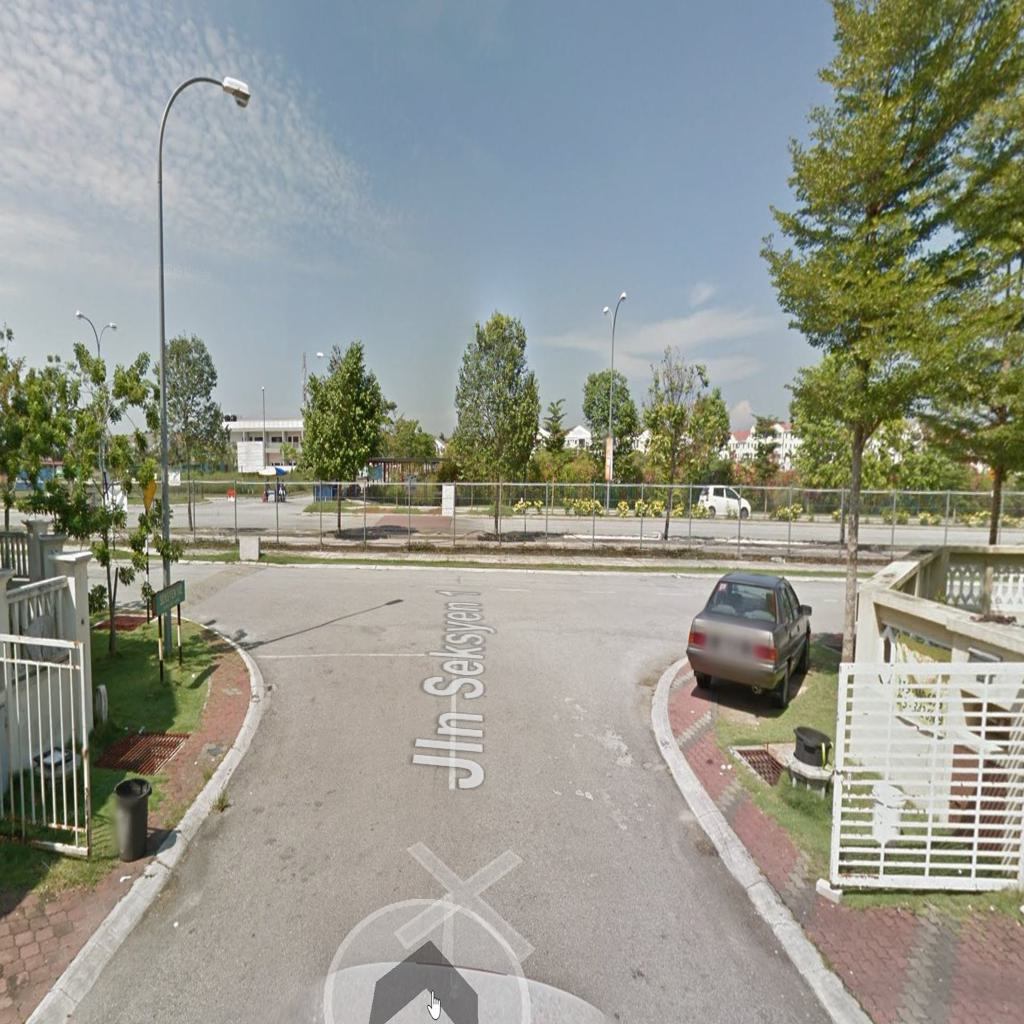Junction: (110, 523, 320, 695), (632, 552, 864, 682)
